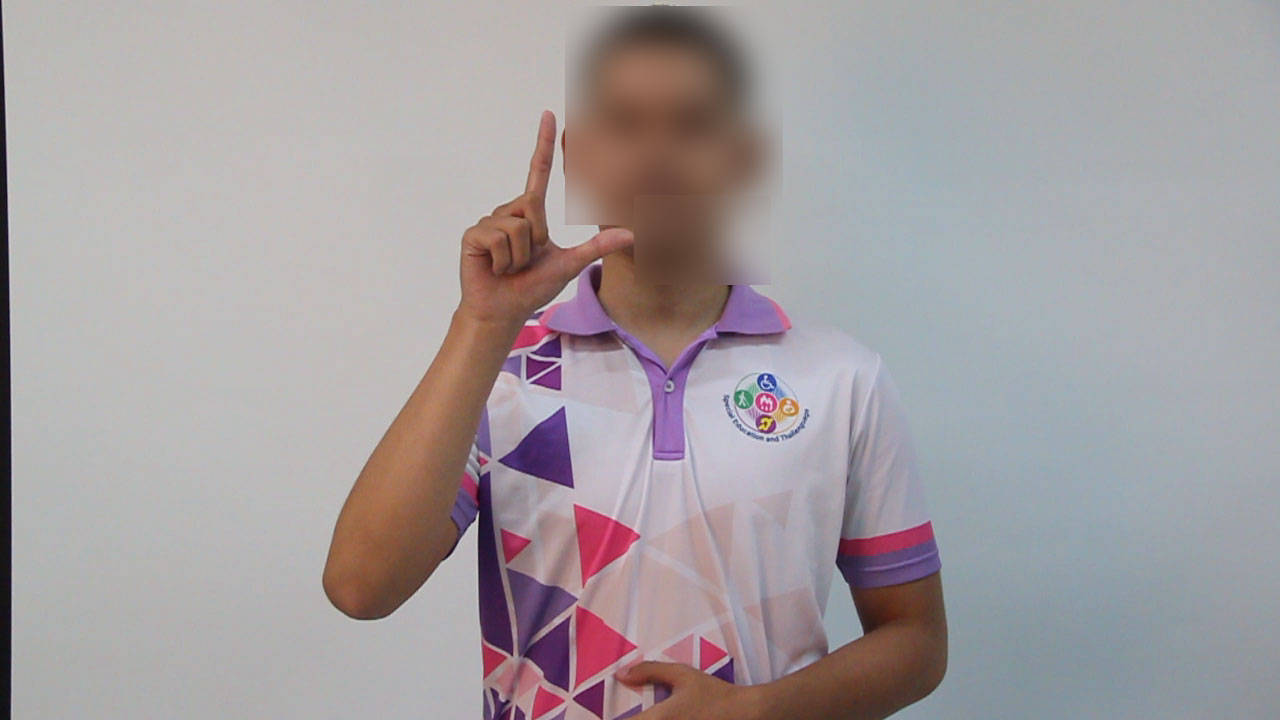lor: (399, 95, 652, 334)
